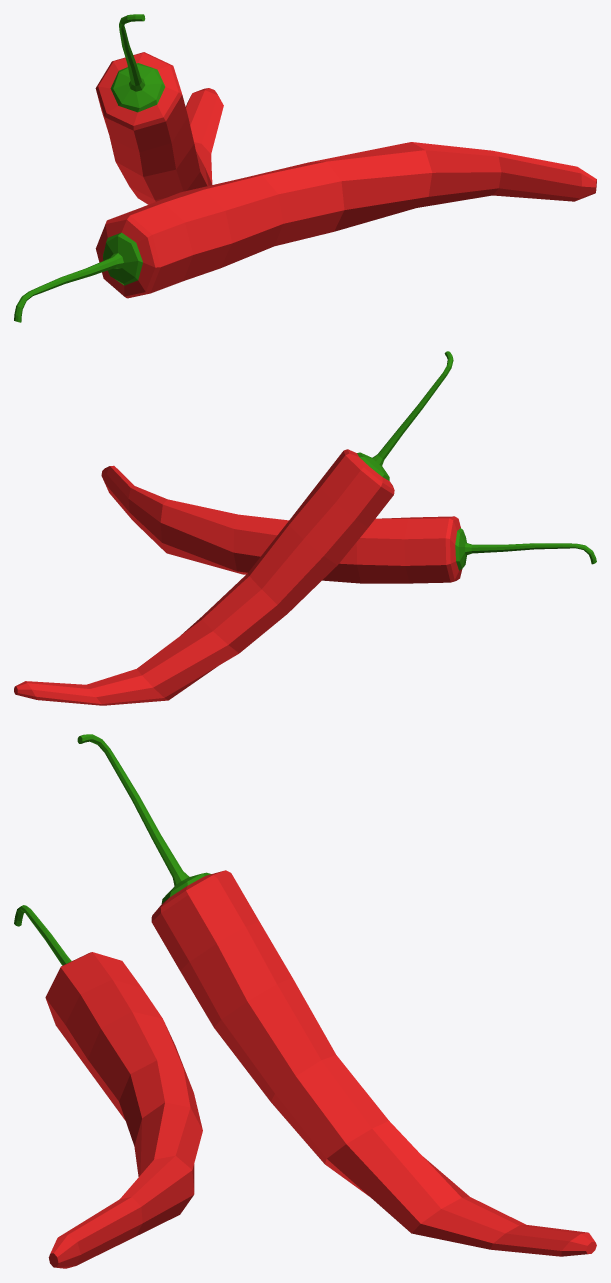
Rendered from Chilipeppers.fbx.
The picture shows the model from 3 angles, top to bottom: view 1: azimuth 30°, elevation 25°; view 2: azimuth 150°, elevation 25°; view 3: azimuth 270°, elevation 25°; orthographic projection. The views are drawn at different scales.
Parts seen in each view (by area): view 1: Chilipepper.001, Chilipepper; view 2: Chilipepper, Chilipepper.001; view 3: Chilipepper, Chilipepper.001.
Boxes of the visible parts, <box> form: Chilipepper.001: <box>14,142,596,322</box>; Chilipepper: <box>95,14,223,204</box>; Chilipepper: <box>14,351,453,705</box>; Chilipepper.001: <box>101,465,596,583</box>; Chilipepper: <box>77,734,596,1256</box>; Chilipepper.001: <box>14,905,202,1268</box>.
Bounding box in the file's own units: 138 × 79.4 × 107.
